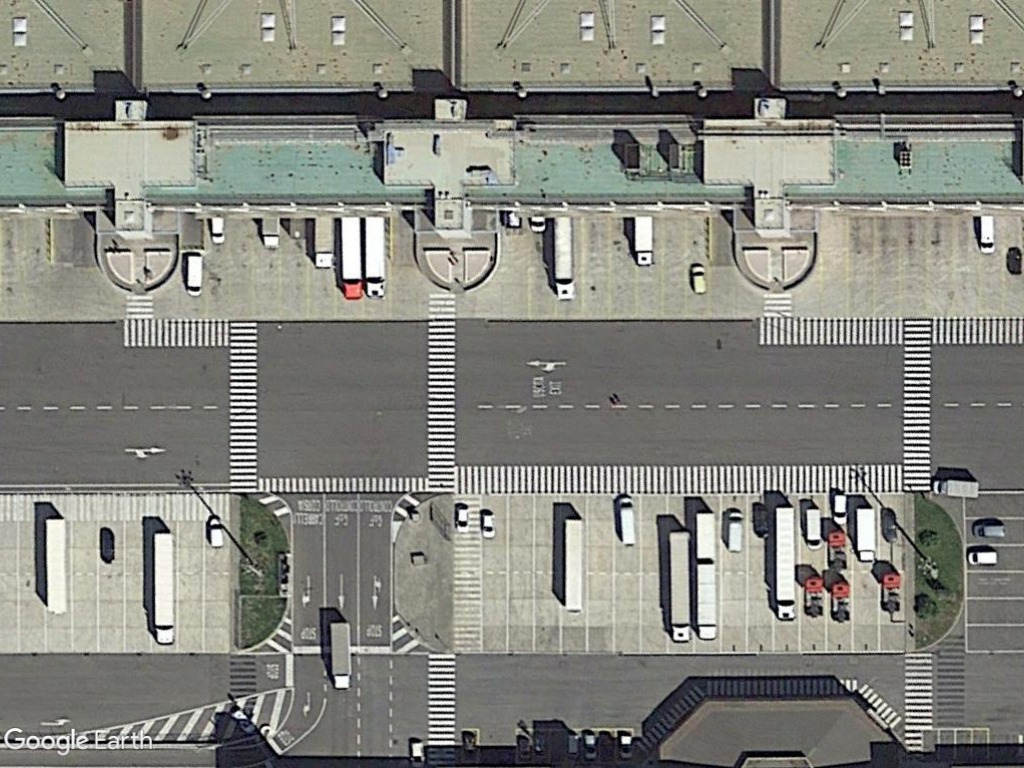car: (968, 517, 1009, 542), (962, 544, 1002, 568), (688, 261, 711, 296), (453, 503, 472, 537), (479, 510, 498, 543)
longvehicle: (691, 506, 721, 645), (664, 524, 696, 647), (769, 500, 800, 624), (149, 527, 179, 650), (41, 511, 72, 618), (557, 512, 587, 620), (547, 211, 579, 304), (360, 213, 390, 302), (336, 213, 365, 303)
truck: (325, 615, 354, 693), (852, 500, 877, 566), (630, 213, 656, 271), (929, 473, 982, 501), (312, 213, 336, 272)
van: (613, 492, 640, 551), (722, 506, 746, 556), (182, 251, 206, 298), (976, 212, 997, 258), (802, 504, 822, 551), (204, 512, 226, 552), (828, 491, 850, 528), (208, 214, 228, 247)
